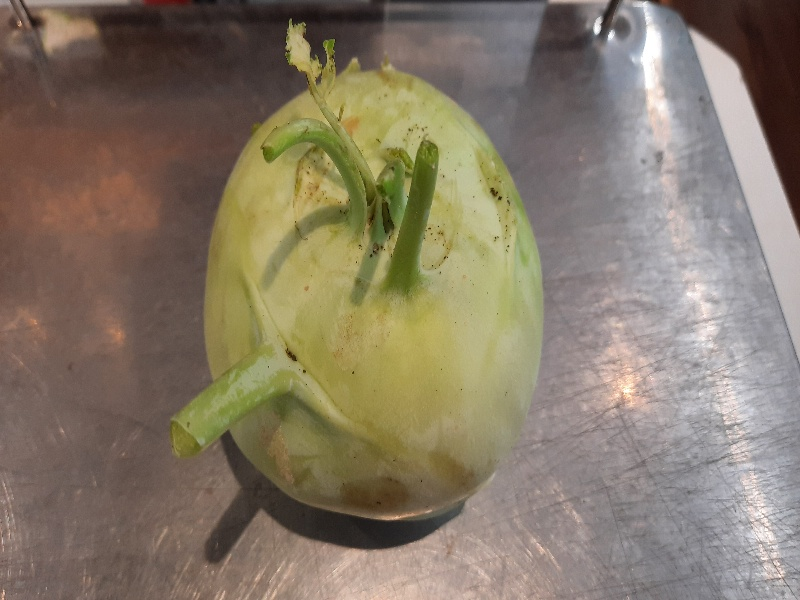vege: (147, 22, 558, 547)
